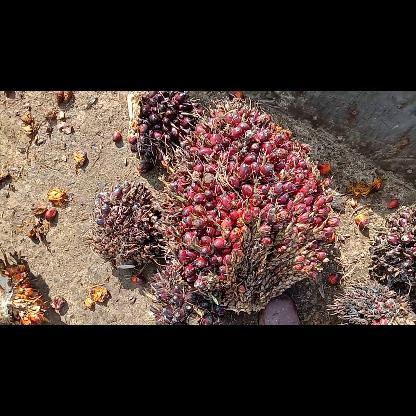TBS abnormal: (91, 178, 161, 274), (124, 93, 190, 169), (149, 272, 215, 324)
TBS masak: (167, 99, 341, 309)
